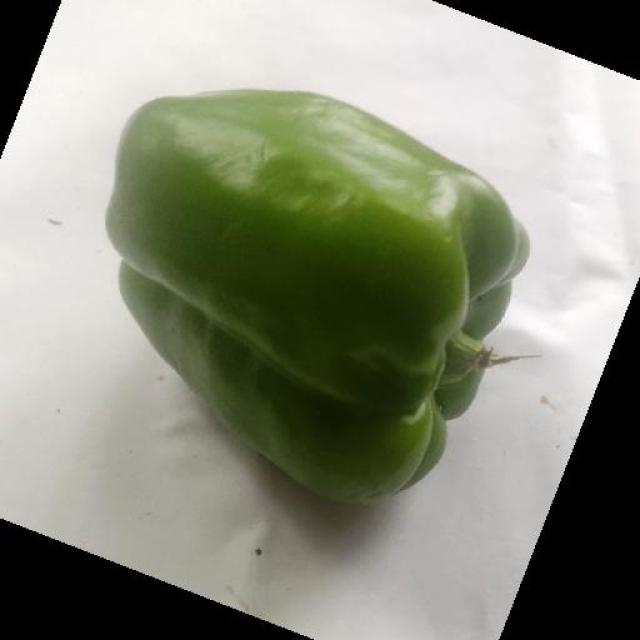Fresh_Capsicum: (132, 59, 517, 465)
